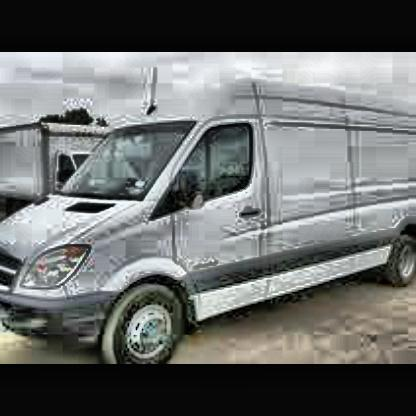Dodge Sprinter Cargo Van 2009: (2, 82, 416, 364)
